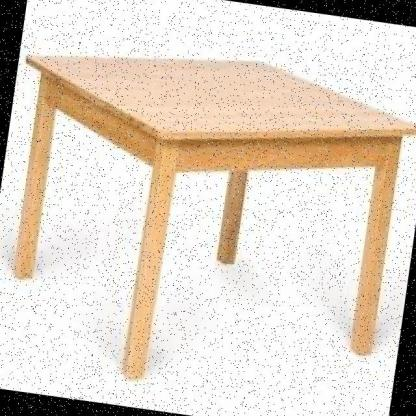Table: (0, 23, 416, 416)
